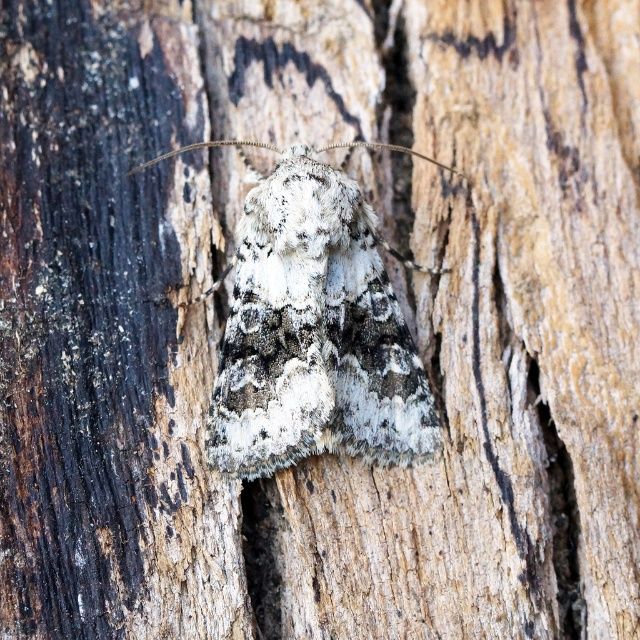Moths and butterflies: (126, 139, 471, 482)
